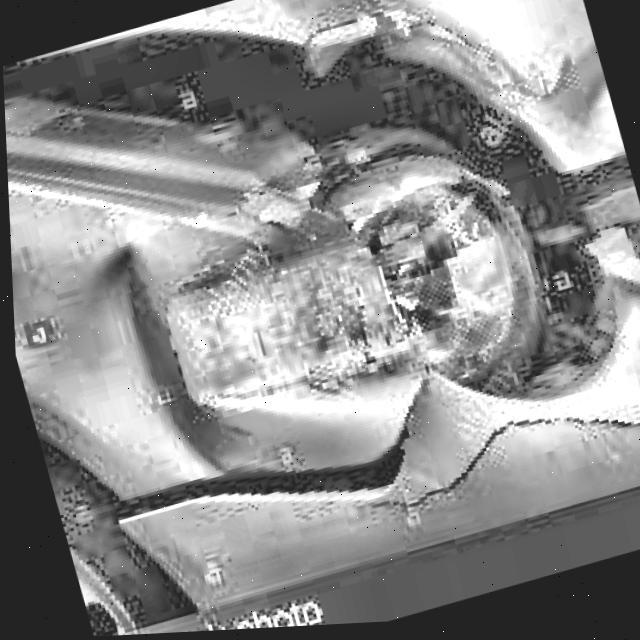head_lamp: (331, 86, 624, 428), (168, 198, 489, 461)
